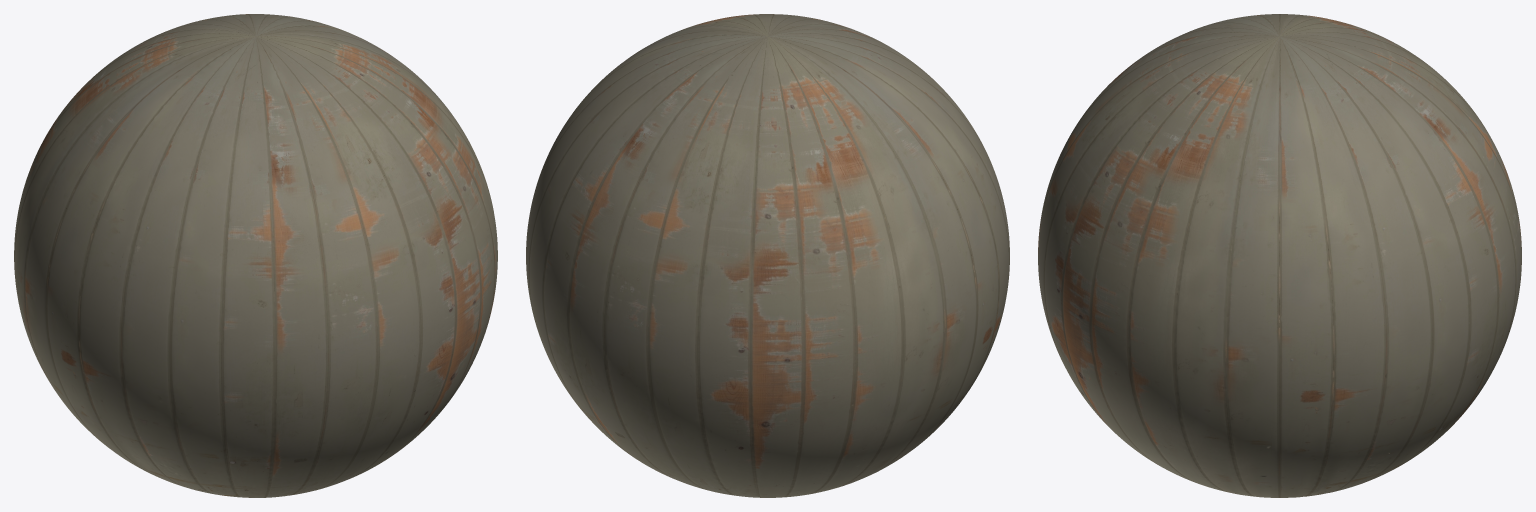
Rendered from distressed_painted_planks_1k.gltf.
The picture shows the model from 3 angles, left to right: view 1: azimuth 30°, elevation 25°; view 2: azimuth 150°, elevation 25°; view 3: azimuth 270°, elevation 25°; orthographic projection.
Parts seen in each view (by area): view 1: sphere_gltf; view 2: sphere_gltf; view 3: sphere_gltf.
Part boxes in pixels (left/top/right/bottom): sphere_gltf: left=14, top=14, right=497, bottom=497; sphere_gltf: left=526, top=14, right=1009, bottom=497; sphere_gltf: left=1038, top=14, right=1521, bottom=497.
Size of the model in its own units: 1.61 by 1.61 by 1.61.
1 material, 1 textured.
